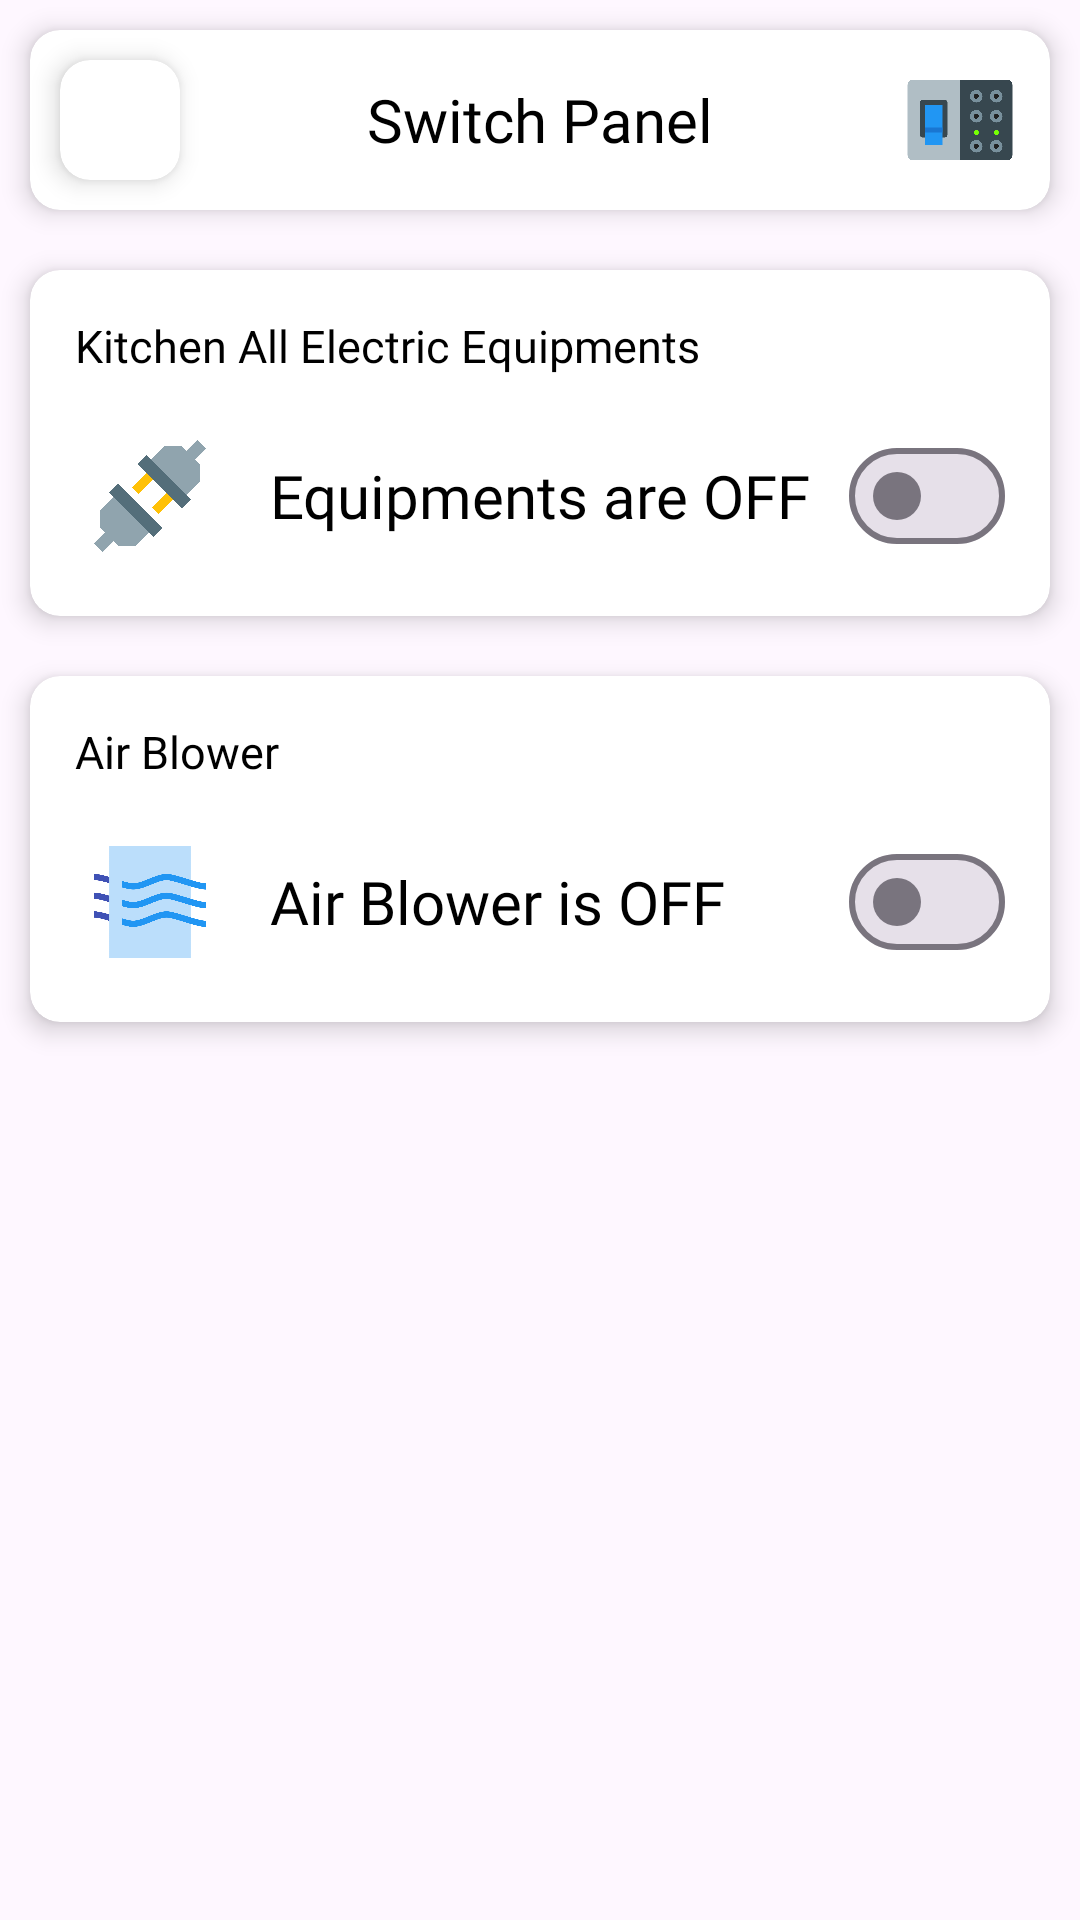

Named icons in this screenshot (1080×1920) and their bounding boxes, (x1,y1,x2,y2):
air quality: (94,846,206,958)
disconnected: (94,440,206,552)
switchboard: (907,80,1013,160)
